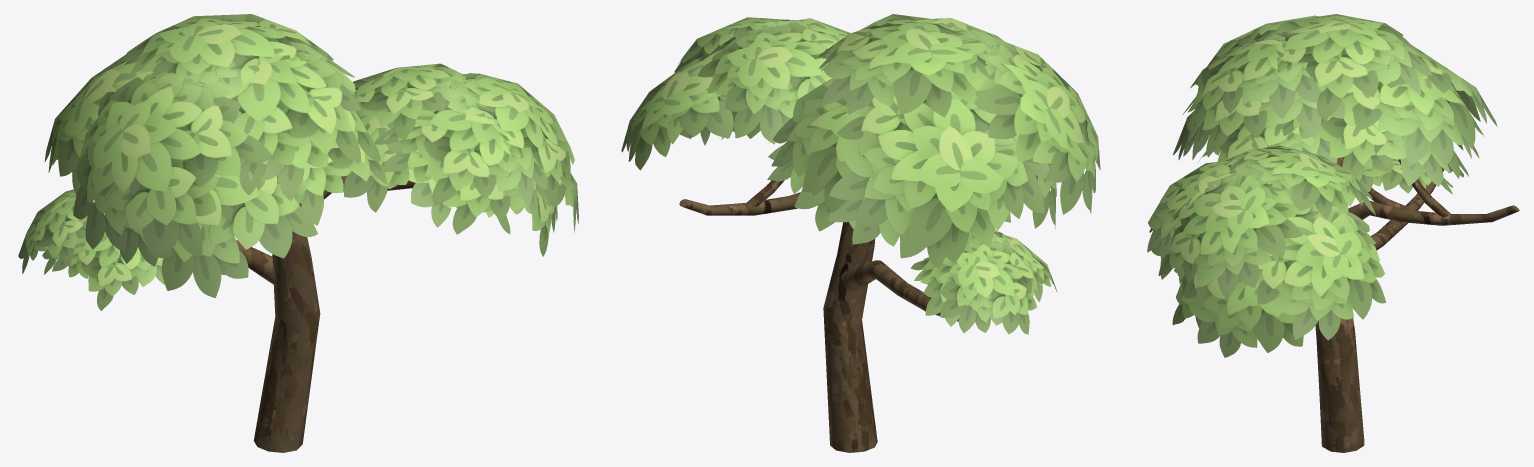
The model's file is tree_9.glb.
The picture shows the model from 3 angles, left to right: view 1: azimuth 30°, elevation 25°; view 2: azimuth 150°, elevation 25°; view 3: azimuth 270°, elevation 25°; orthographic projection. The views are drawn at different scales.
Parts seen in each view (by area): view 1: Tree_9; view 2: Tree_9; view 3: Tree_9.
Part boxes in pixels (bbox=[...]): Tree_9: bbox=[18, 14, 578, 452]; Tree_9: bbox=[621, 14, 1100, 452]; Tree_9: bbox=[1147, 14, 1519, 452].
Size of the model in its own units: 6.36 by 5.49 by 4.94.
Materials: 2 (2 with a texture image).
